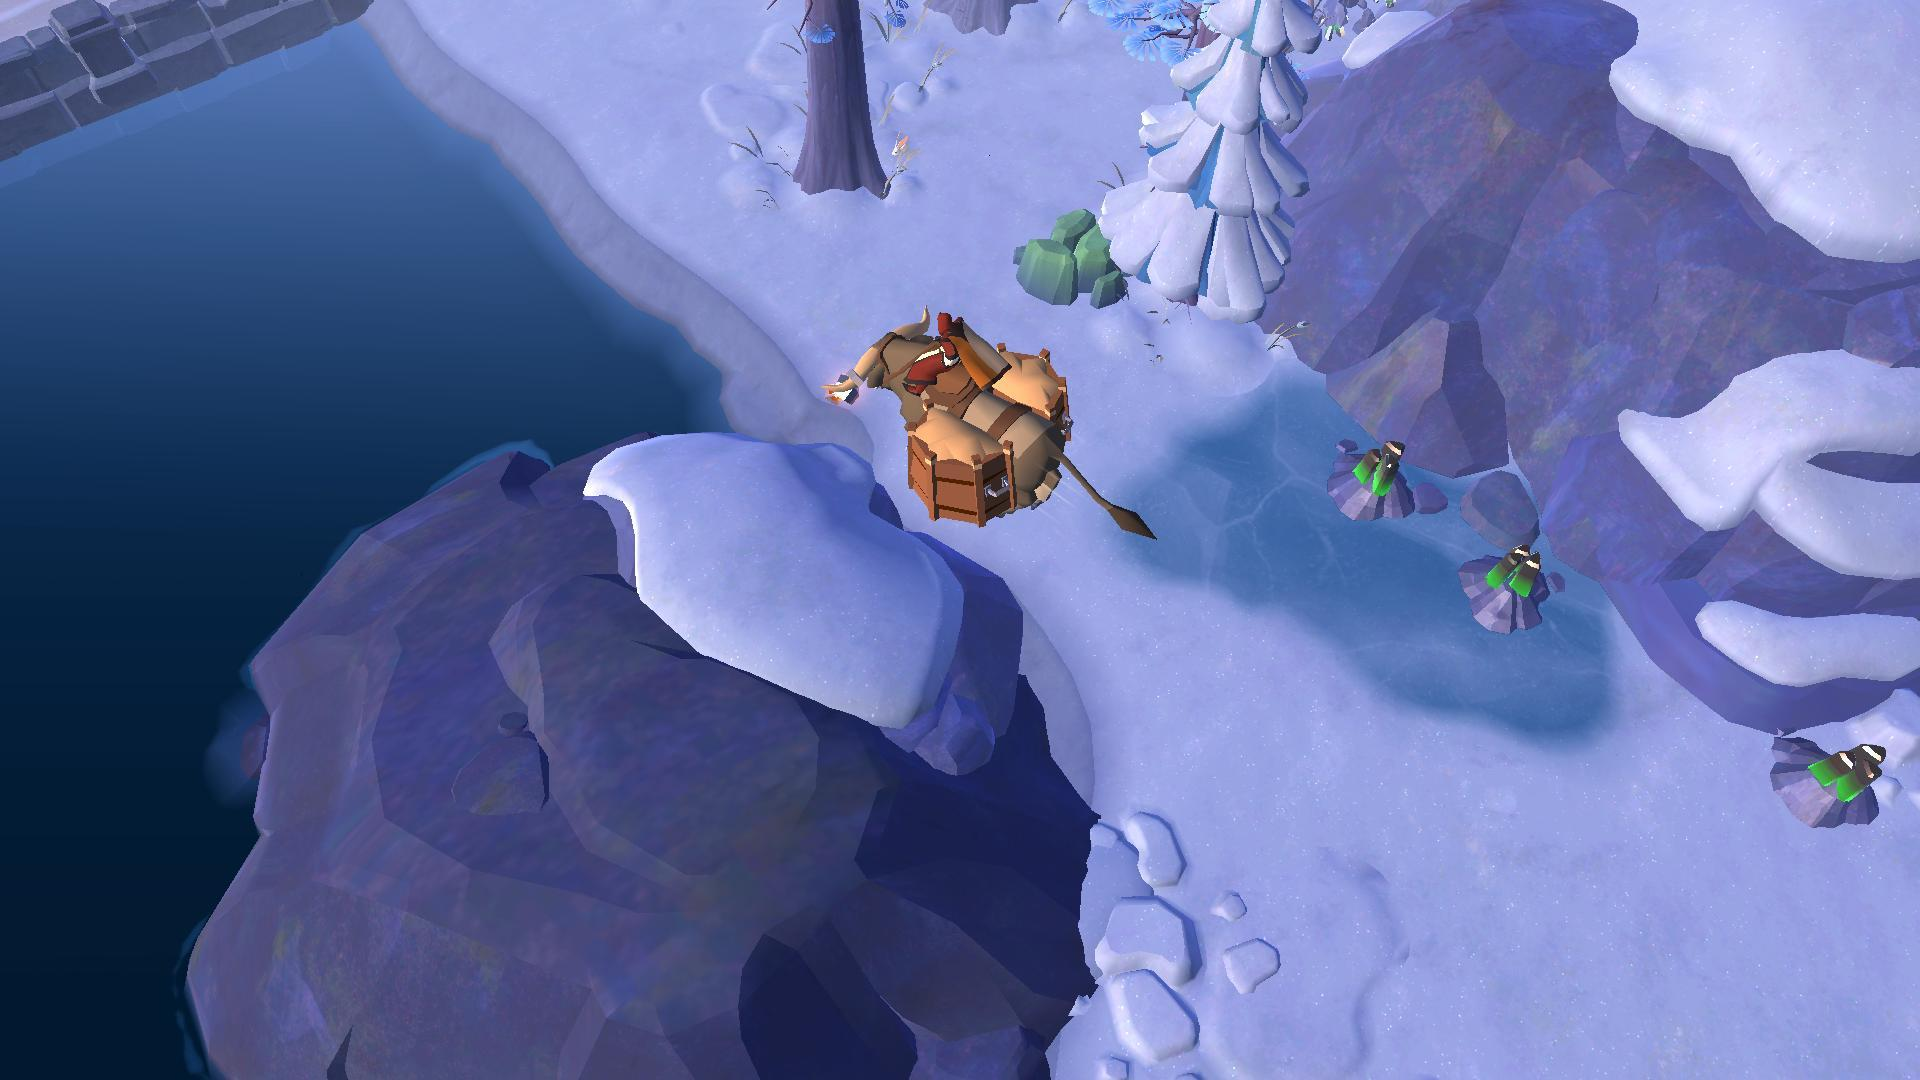ore_t3: (1809, 731, 1887, 808), (1482, 534, 1545, 604), (1353, 434, 1403, 506)
rock_t3: (1013, 204, 1133, 316)
